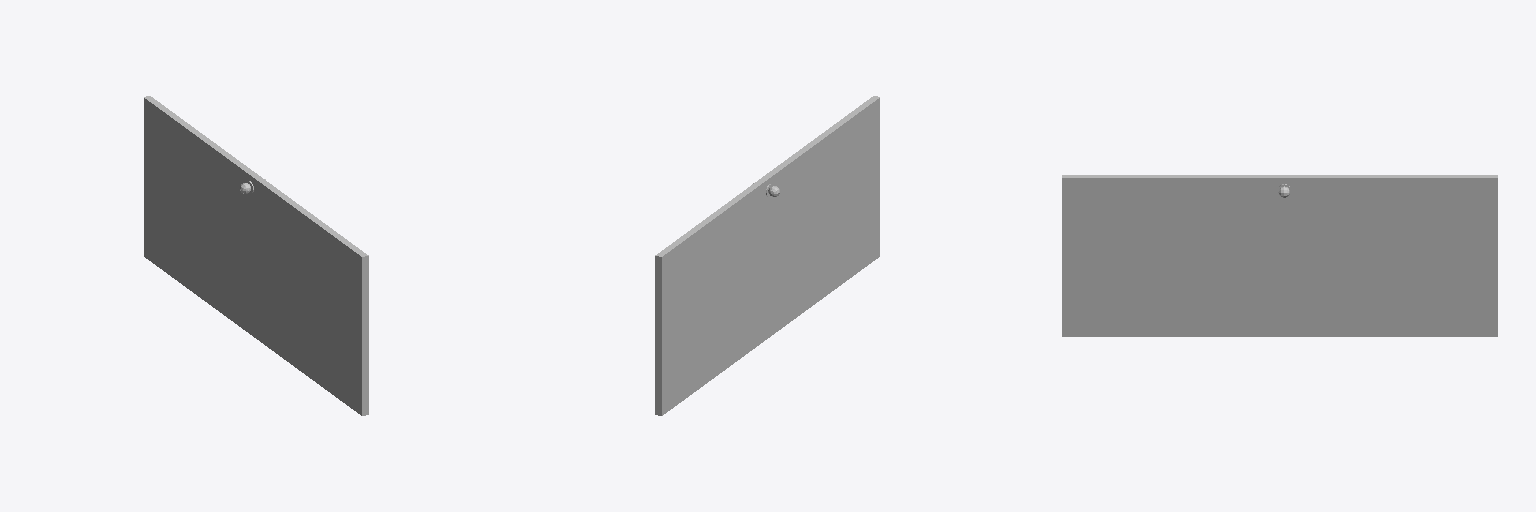
File: APT Door Exterior v1.obj
3 views of the same model, side by side, from view 1: azimuth 30°, elevation 25°; view 2: azimuth 150°, elevation 25°; view 3: azimuth 270°, elevation 25° (orthographic).
Parts seen in each view (by area): view 1: Solid1; view 2: Solid1; view 3: Solid1.
Boxes of the visible parts, x1=… form: Solid1: x1=144, y1=96, x2=368, y2=415; Solid1: x1=655, y1=96, x2=879, y2=415; Solid1: x1=1062, y1=175, x2=1497, y2=336.
Size of the model in its own units: 145 by 820 by 2040.